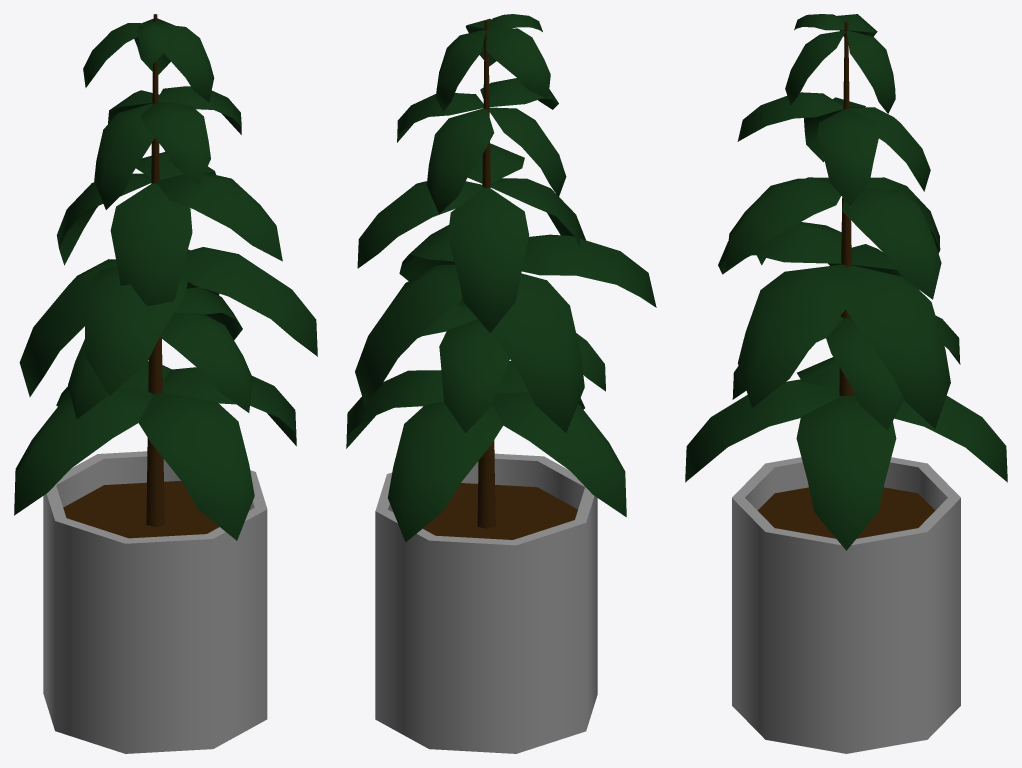
File: PotPlant_01_snaps001.fbx
3 renders of one model, left to right at view 1: azimuth 30°, elevation 25°; view 2: azimuth 150°, elevation 25°; view 3: azimuth 270°, elevation 25°, orthographic.
Parts seen in each view (by area): view 1: PotPlant_01_snaps001; view 2: PotPlant_01_snaps001; view 3: PotPlant_01_snaps001.
Boxes of the visible parts, x1,y1,x2,y2 form: PotPlant_01_snaps001: (14,14,317,753); PotPlant_01_snaps001: (346,14,656,753); PotPlant_01_snaps001: (685,14,1007,753).
Bounding box in the file's own units: 70.38 × 165 × 70.38.
